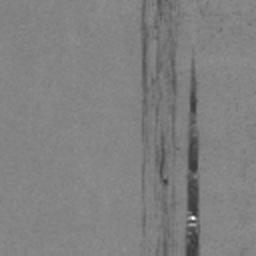Slag inclusion: (138, 0, 182, 238), (184, 46, 202, 256), (154, 224, 170, 253)
